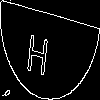H: (25, 25, 51, 76)
